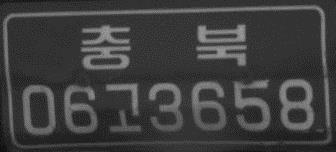0: (21, 82, 56, 137)
3: (147, 81, 184, 134)
5: (231, 78, 272, 132)
6: (60, 82, 100, 134), (189, 80, 228, 133)
8: (277, 75, 315, 131)
고: (103, 79, 144, 136)
충북_D: (79, 19, 249, 71)
